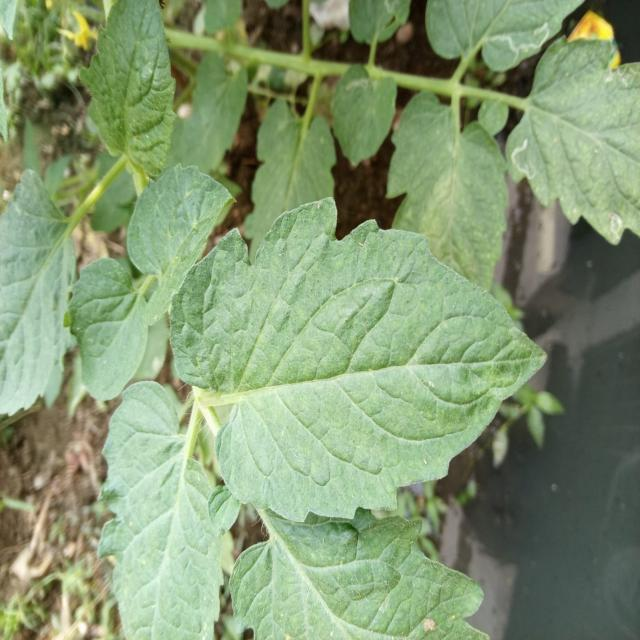Healthy: (99, 135, 554, 590), (93, 380, 225, 640), (70, 0, 188, 183)
